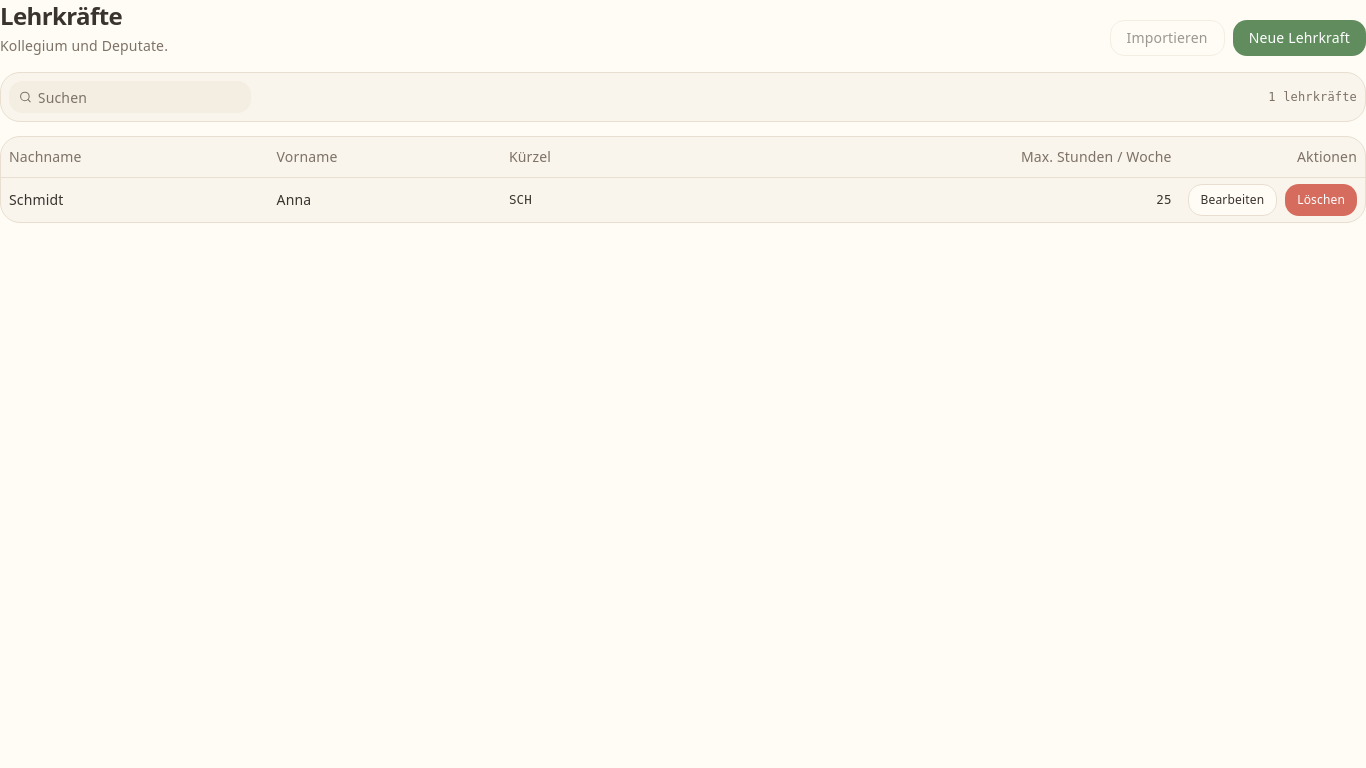
Scenario: TeachersPage › creates a teacher via the dialog and closes on success
expect the text "Schmidt" is shown: met, box [1,177,268,222]
Click the button "Neue Lehrkraft". click: (1299, 38)
box: [1233,20,1365,56]
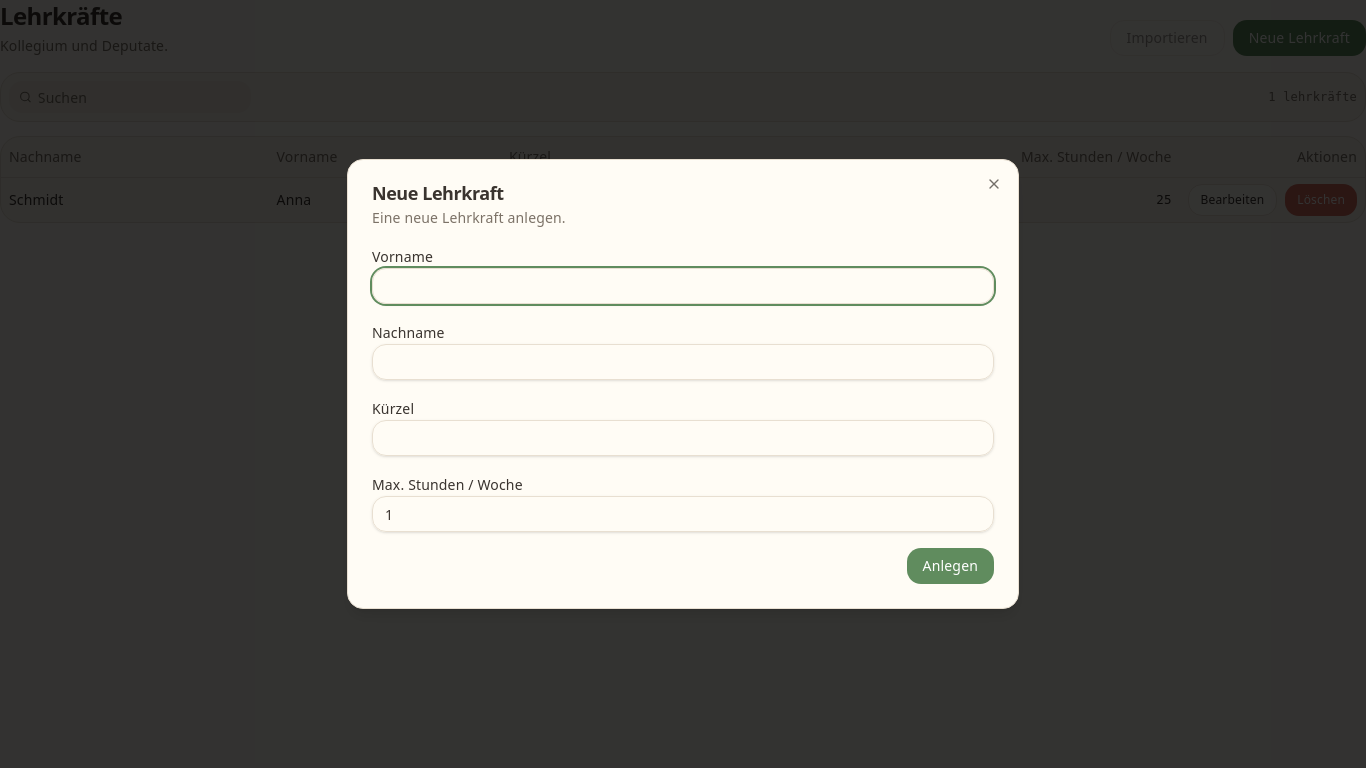
Type "Max" into the field labelled "Vorname". click: (683, 286)
box: [372,268,994,304]
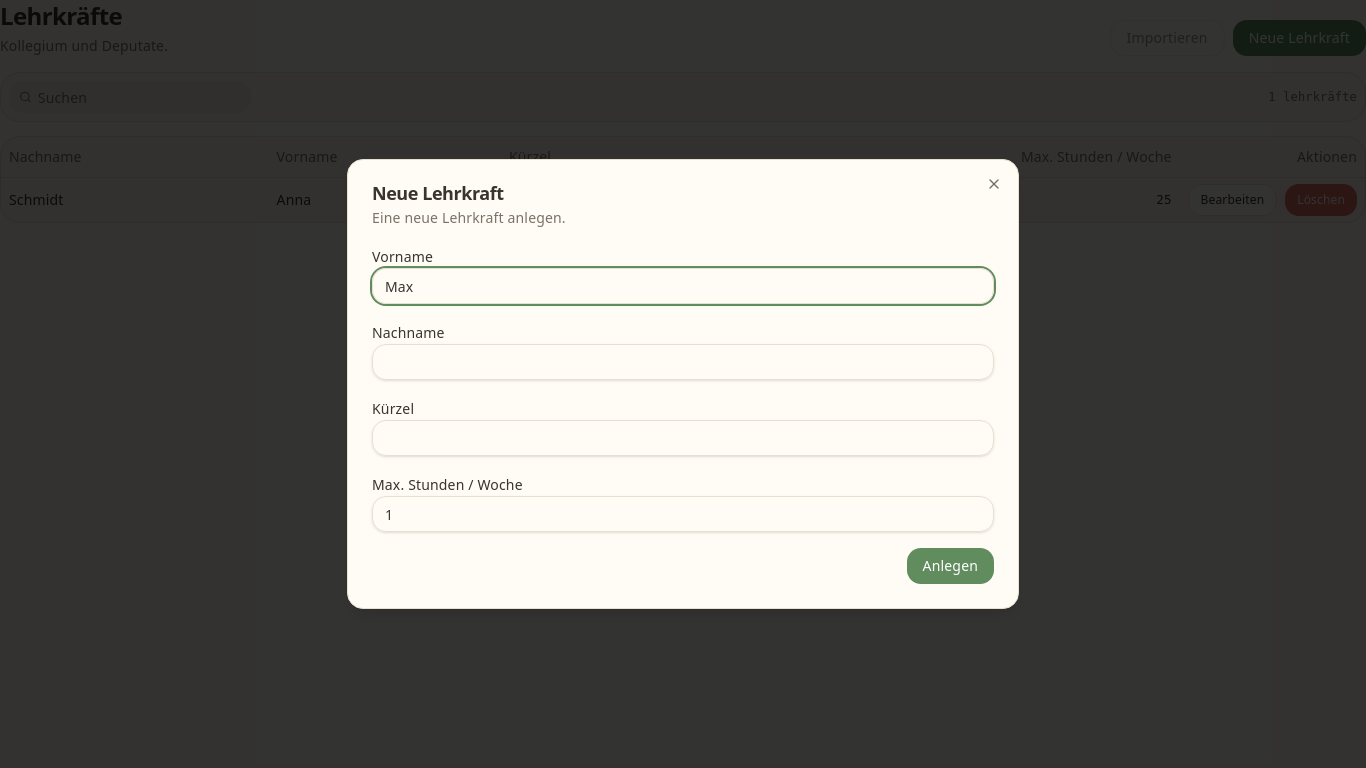
Type "Müller" into the field labelled "Nachname". click: (683, 362)
box: [372,344,994,380]
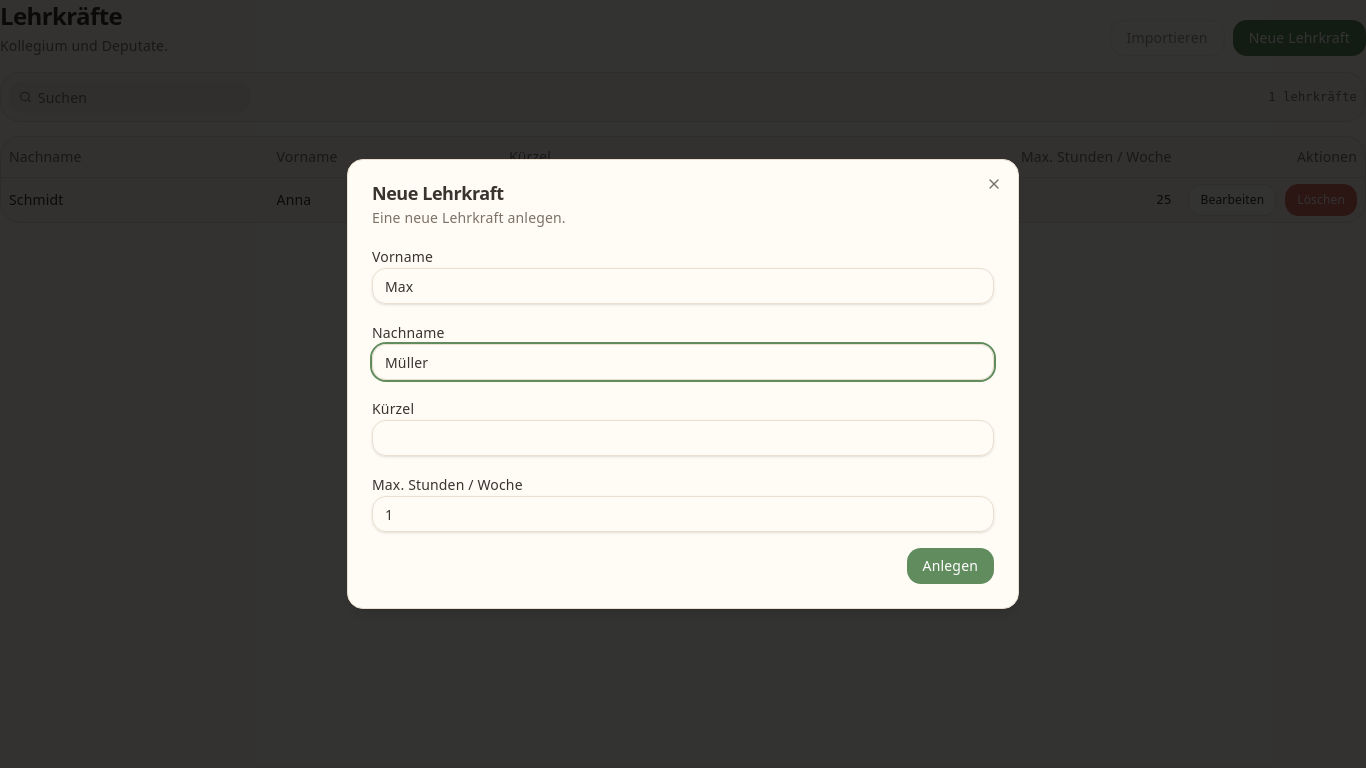
Type "MÜL" into the field labelled "Kürzel". click: (683, 438)
box: [372,420,994,456]
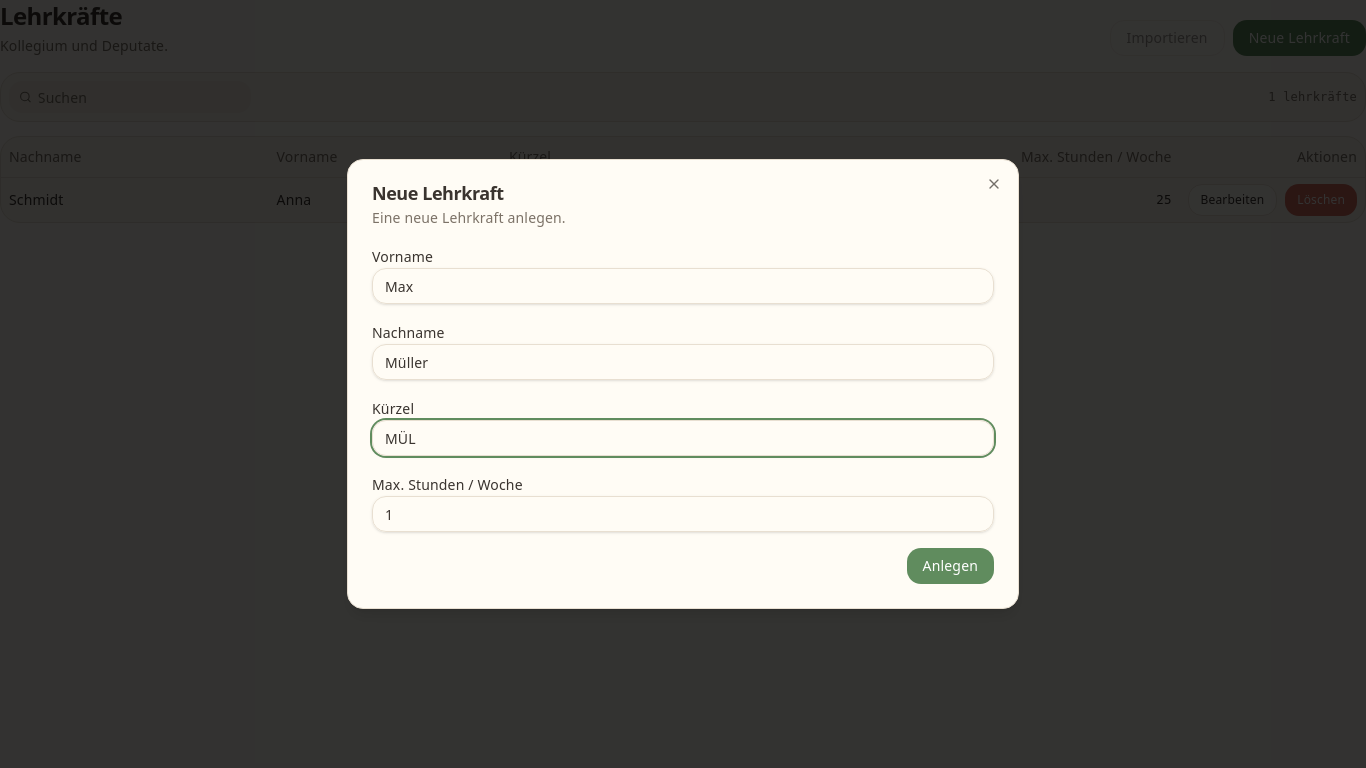
Type "20" into the number field labelled "Max. Stunden / Woche". click: (683, 514)
box: [372,496,994,532]
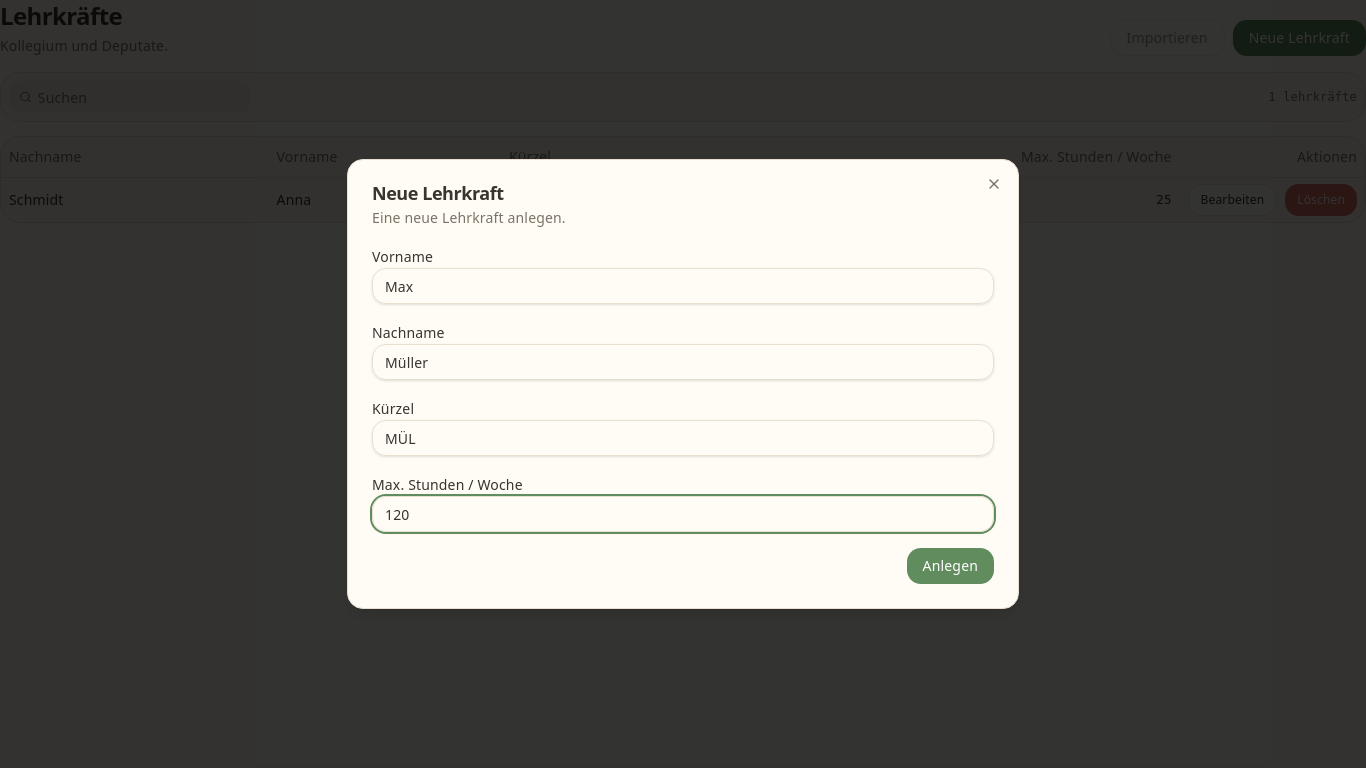
Click the button "Anlegen". click: (950, 566)
box: [907,548,994,584]
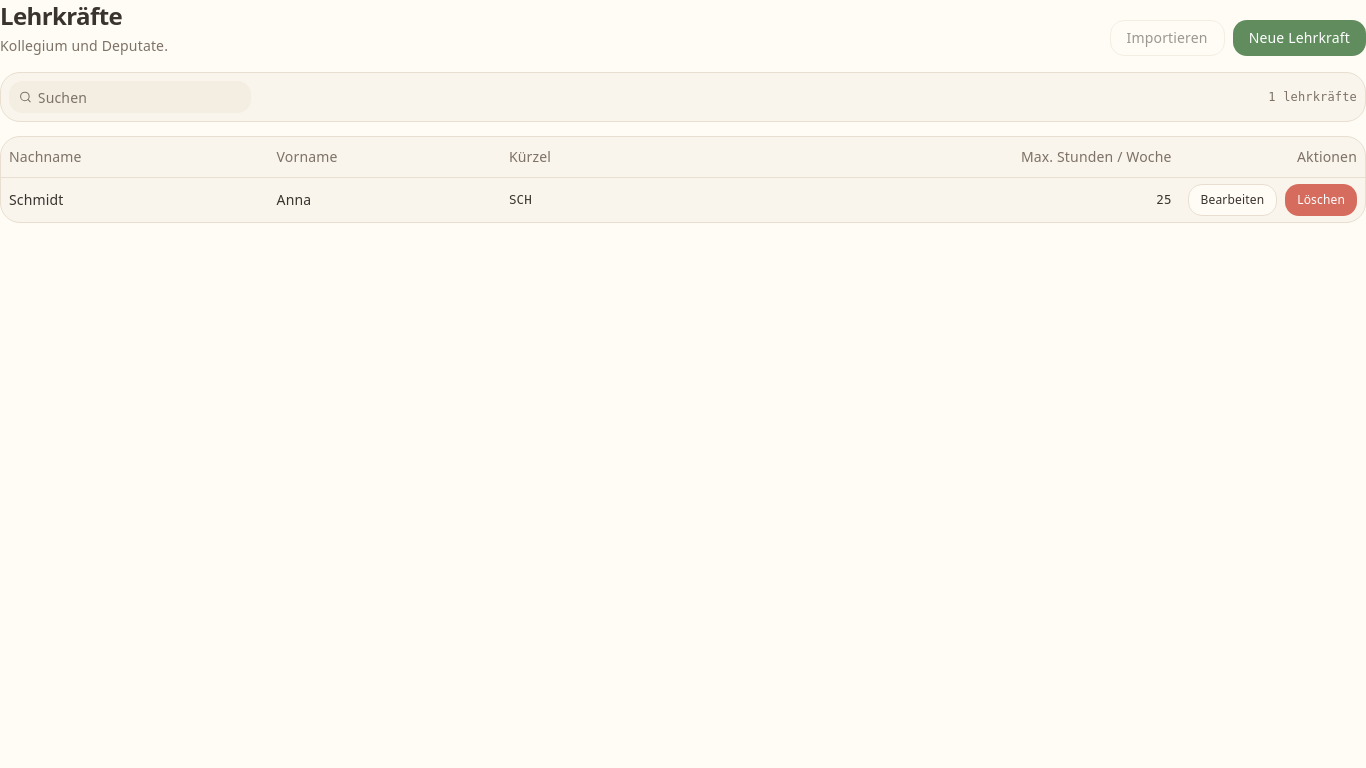
expect the dialog is gone: met
